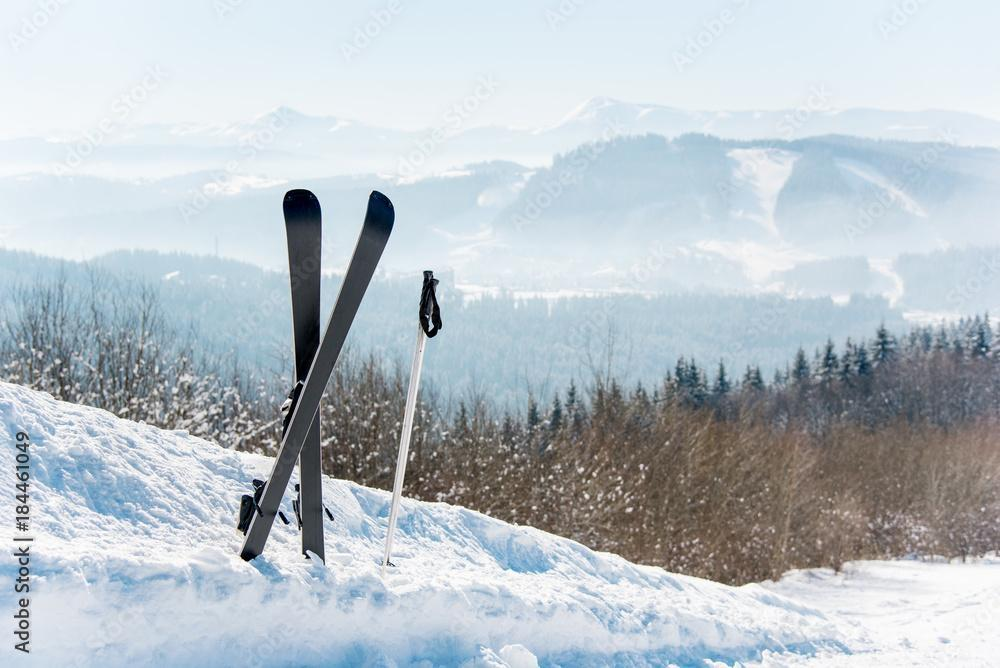Skis: (236, 165, 457, 592)
